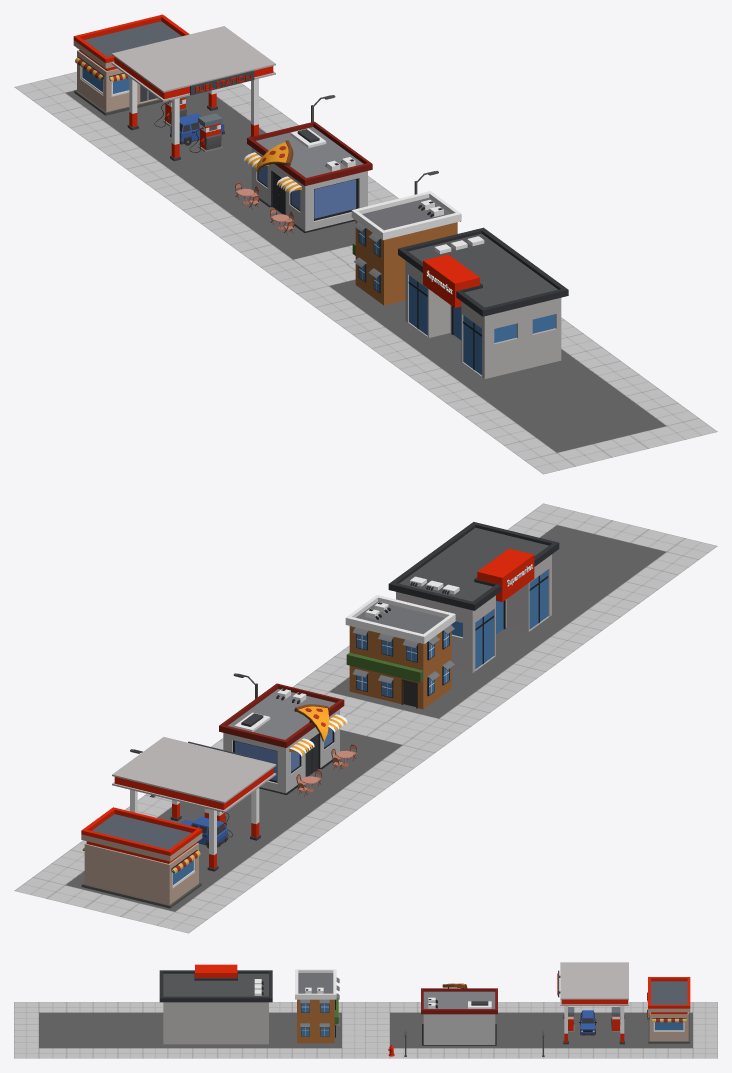
File: Environment.fbx
3 renders of one model, top to bottom at view 1: azimuth 30°, elevation 25°; view 2: azimuth 150°, elevation 25°; view 3: azimuth 270°, elevation 25°, orthographic. The views are drawn at different scales.
Visible parts, largest first — view 1: model_1.002, model_18.002, model_9.004, model_18.001, model_9.001, model_1.001, model_4.002, model_4.001; view 2: model_1.002, model_18.002, model_18.001, model_9.004, model_4.001, model_1.001, model_4.002, model_9.001; view 3: model_1.002, model_18.002, model_18.001, model_9.004, model_9.001, model_4.002, model_1.001, model_4.001, model_3.001.
Boxes of the visible parts, <box> form: model_1.002: <box>351,191,568,378</box>; model_18.002: <box>280,263,717,474</box>; model_9.004: <box>329,279,666,452</box>; model_18.001: <box>14,71,398,281</box>; model_9.001: <box>65,90,355,259</box>; model_1.001: <box>111,26,275,161</box>; model_4.002: <box>244,121,372,232</box>; model_4.001: <box>73,14,189,115</box>; model_1.002: <box>345,522,559,709</box>; model_18.002: <box>292,503,717,738</box>; model_18.001: <box>14,711,453,933</box>; model_9.004: <box>329,525,666,718</box>; model_4.001: <box>81,807,202,908</box>; model_1.001: <box>112,737,276,871</box>; model_4.002: <box>219,683,347,794</box>; model_9.001: <box>65,729,402,911</box>; model_1.002: <box>159,964,339,1044</box>; model_18.002: <box>14,1002,364,1058</box>; model_18.001: <box>365,1002,717,1058</box>; model_9.004: <box>39,1012,341,1048</box>; model_9.001: <box>390,1012,692,1048</box>; model_4.002: <box>421,983,497,1045</box>; model_1.001: <box>557,962,628,1044</box>; model_4.001: <box>647,977,690,1043</box>; model_3.001: <box>579,1010,596,1035</box>.
Bounding box in the file's own units: 447 × 185 × 2166.
